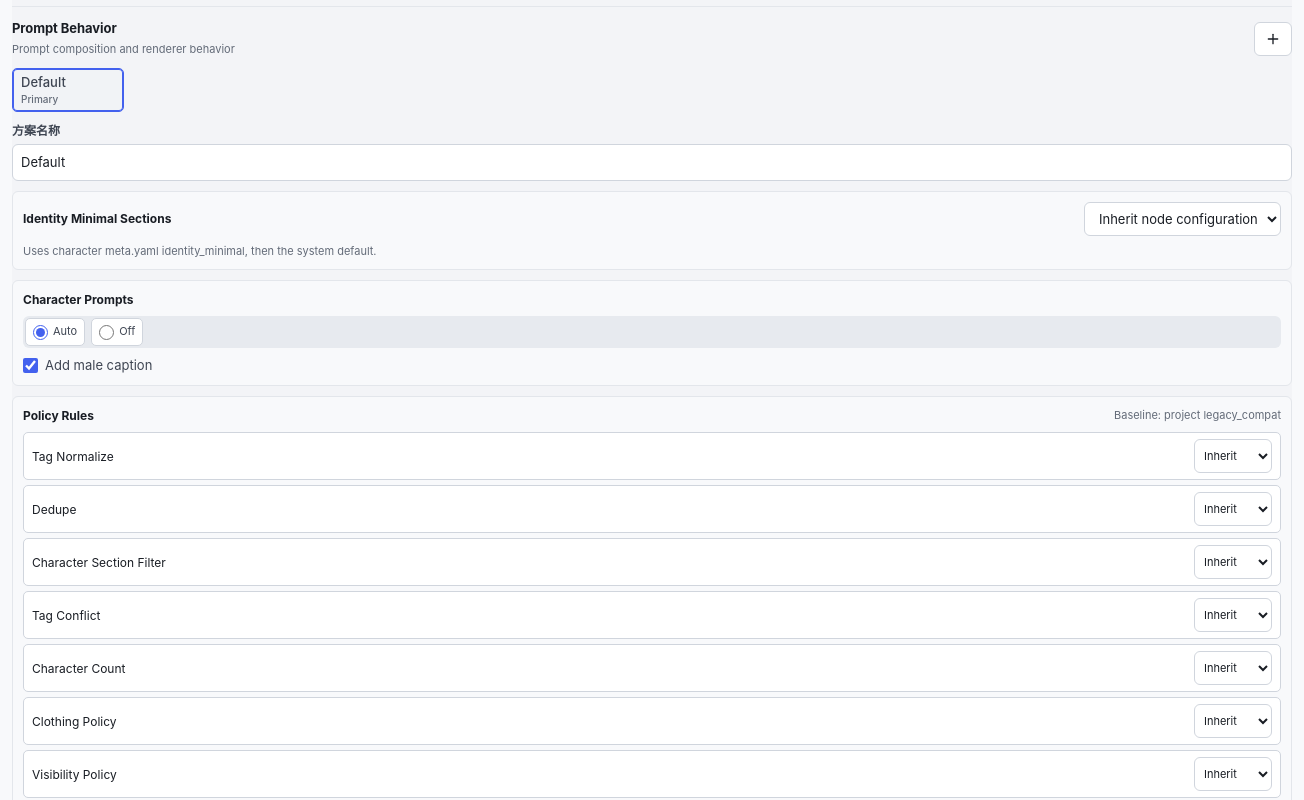
PromptBehaviorGroupPanel › renames and removes a compare behavior
This screenshot has width=1304, height=800.
Click the button named "Add Prompt Behavior Compare" at (1273, 39), box 1254,22 -> 1292,56
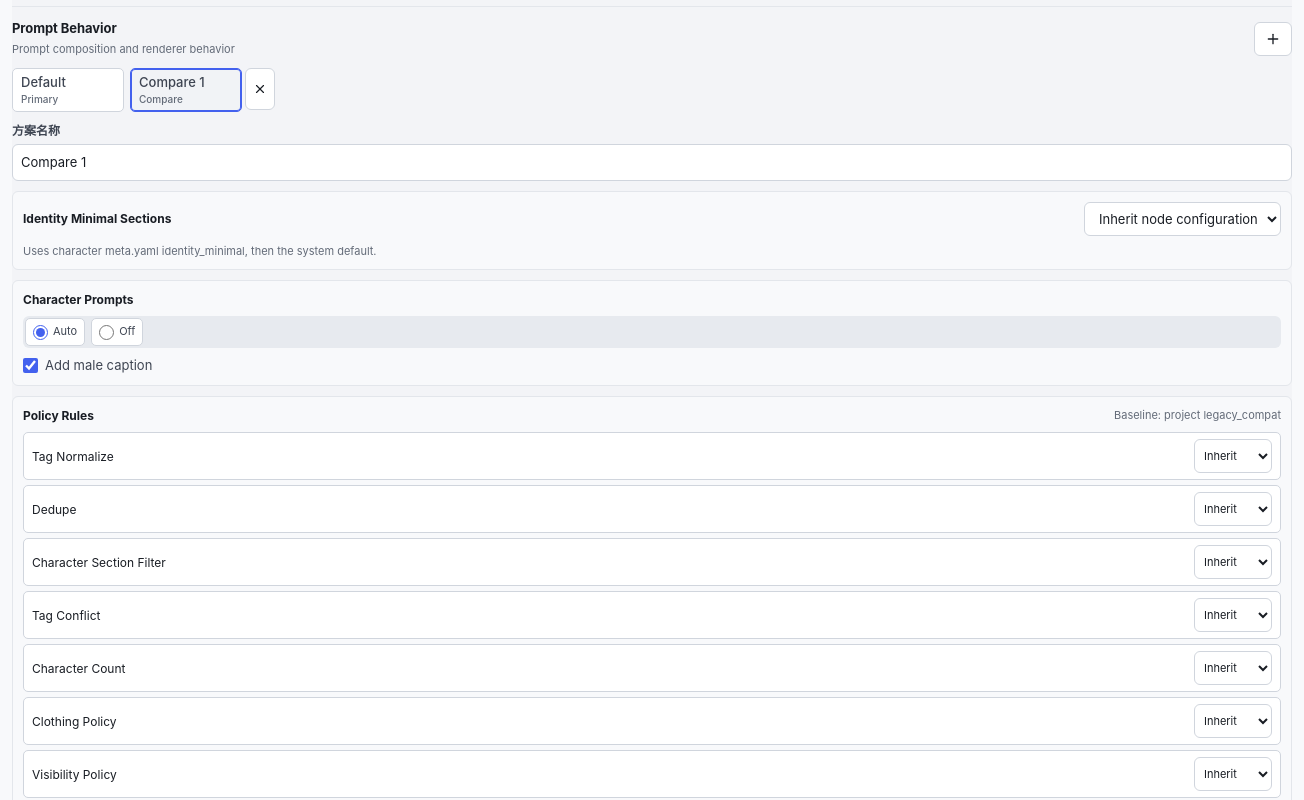
Replace the text in the field named "Prompt Behavior label" with "No Character Prompts" at (652, 162), box 12,144 -> 1292,181
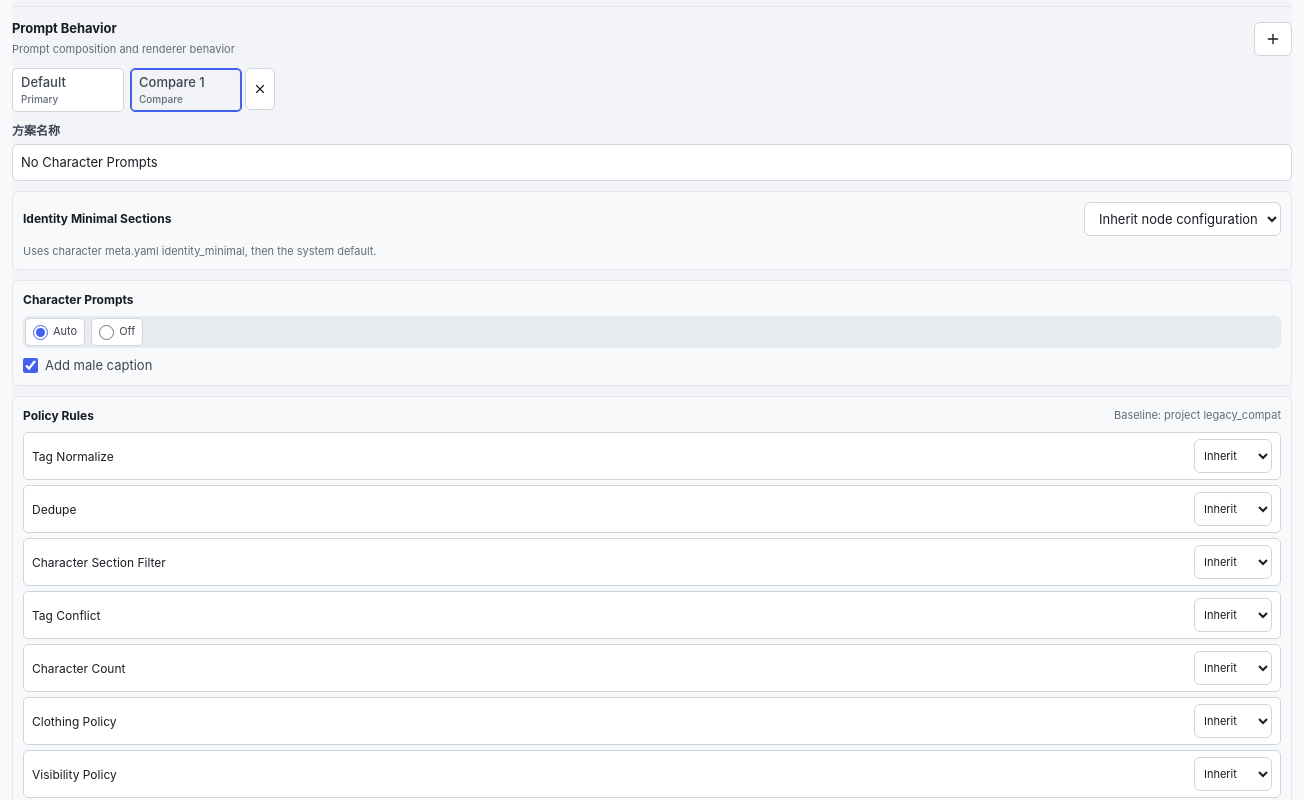
Leave the field named "Prompt Behavior label", box 12,144 -> 1292,181
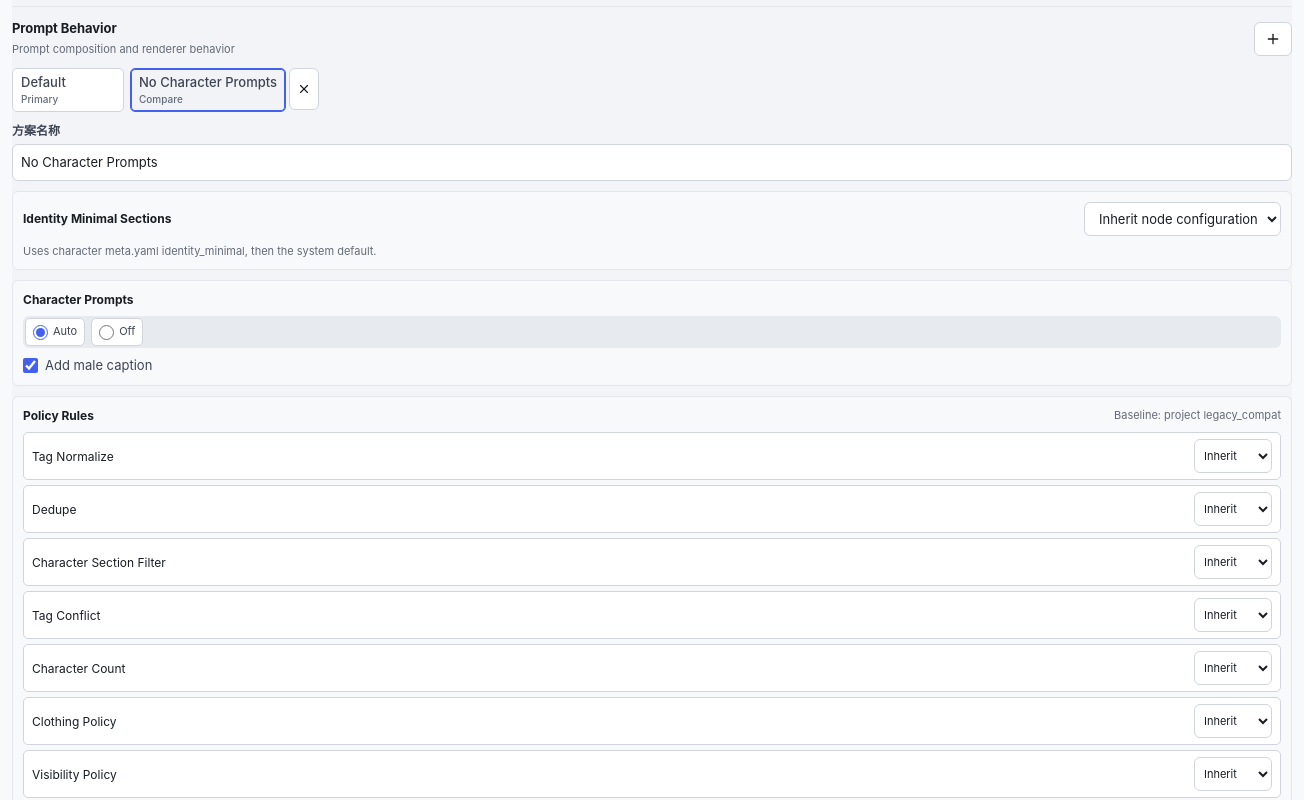
Expected: the text "No Character Prompts" is shown, 139,75 -> 277,91
Click the button named "Remove Prompt Behavior No Character Prompts" at (304, 89), box 289,68 -> 319,110
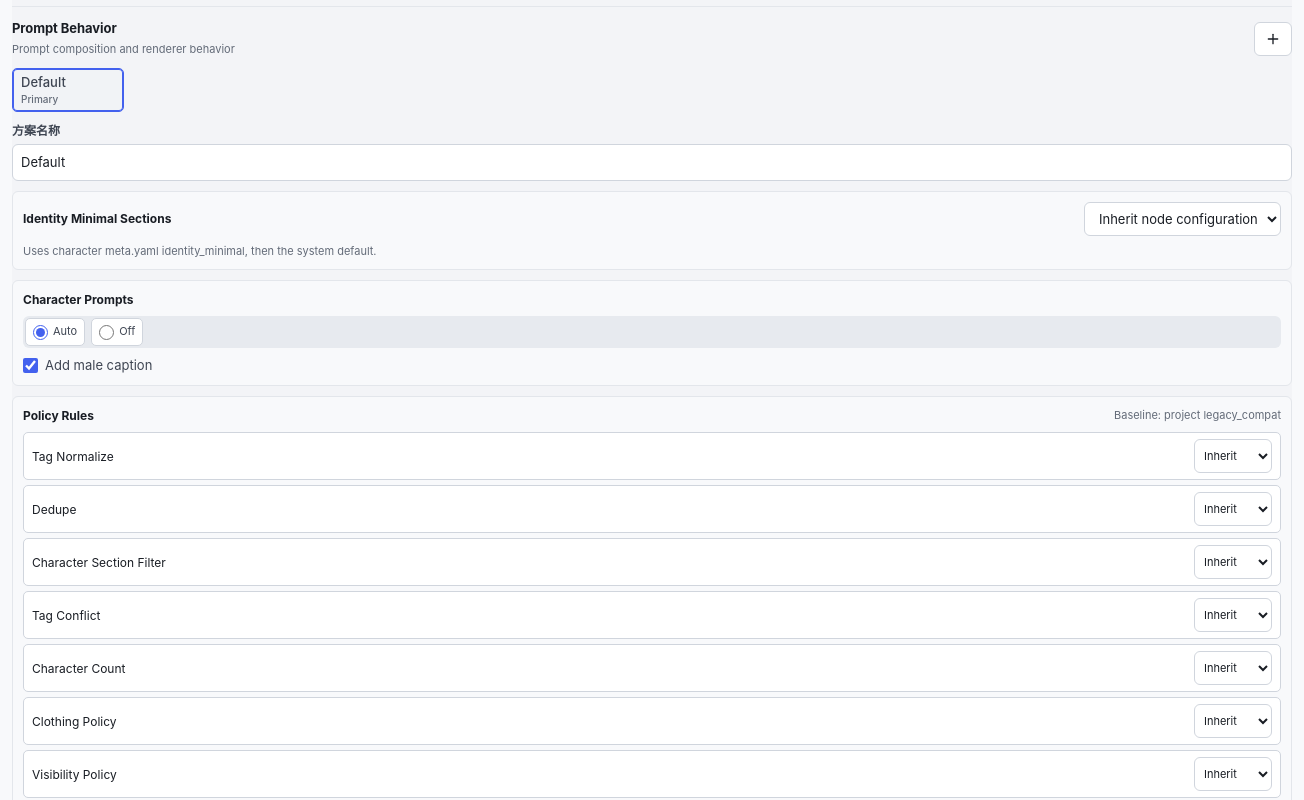
Expected: the button "No Character Prompts" is gone
Expected: the field named "Prompt Behavior label" holds "Default", 12,144 -> 1292,181
